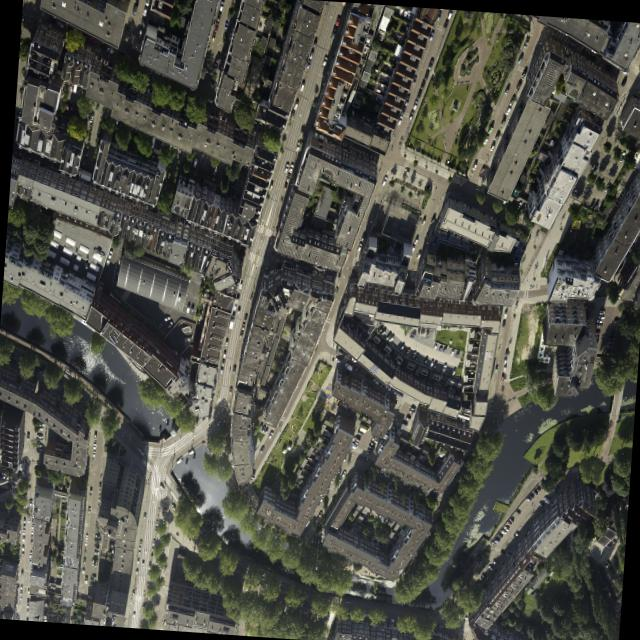small-vehicle: (76, 166, 91, 181), (245, 471, 255, 485), (104, 248, 112, 265), (358, 421, 368, 433), (130, 1, 138, 15), (227, 313, 234, 328), (617, 149, 625, 162), (507, 94, 515, 105), (514, 79, 521, 91), (426, 57, 433, 69), (149, 134, 155, 148), (343, 361, 352, 370), (626, 241, 633, 252), (588, 197, 595, 208), (619, 75, 626, 86), (481, 133, 488, 144), (399, 103, 406, 114), (418, 78, 425, 89), (581, 47, 589, 56), (541, 494, 549, 503), (403, 93, 409, 105), (330, 25, 336, 37), (249, 117, 258, 125), (349, 440, 357, 449), (282, 160, 288, 172), (71, 81, 77, 93), (80, 30, 88, 39), (46, 14, 54, 23), (603, 181, 610, 191), (486, 123, 493, 133), (408, 329, 415, 339), (591, 162, 597, 173), (191, 156, 197, 167), (294, 140, 300, 151), (287, 161, 293, 172), (396, 113, 402, 124), (380, 174, 386, 185), (411, 98, 417, 109), (422, 69, 428, 80), (435, 9, 441, 20), (415, 88, 421, 99), (211, 61, 217, 72), (321, 54, 327, 65), (212, 20, 218, 31), (88, 35, 96, 43), (106, 45, 113, 54), (568, 38, 575, 47), (402, 346, 409, 355), (622, 250, 628, 260), (617, 259, 623, 269), (590, 173, 596, 183), (493, 130, 499, 140), (504, 104, 510, 114), (503, 84, 509, 94), (520, 67, 526, 77), (516, 53, 522, 63), (593, 175, 599, 185), (407, 109, 413, 119), (429, 214, 435, 224), (427, 30, 433, 40), (442, 18, 448, 28), (211, 164, 217, 174), (175, 392, 181, 402), (215, 10, 221, 20), (79, 87, 85, 97), (530, 487, 537, 495), (605, 63, 612, 71), (588, 52, 595, 60), (416, 327, 424, 334), (409, 485, 416, 493), (205, 95, 212, 103), (65, 24, 72, 32), (98, 41, 105, 49), (334, 14, 339, 25), (214, 51, 219, 62), (14, 110, 19, 121), (592, 200, 598, 209), (570, 187, 576, 196), (471, 160, 477, 169), (515, 200, 521, 209), (488, 141, 494, 150), (499, 116, 505, 125), (456, 462, 462, 471), (440, 362, 446, 371), (298, 81, 304, 90), (137, 26, 142, 36), (308, 48, 313, 58), (292, 99, 297, 109), (207, 163, 212, 173), (218, 0, 223, 10), (210, 30, 215, 40), (141, 5, 146, 15), (68, 102, 73, 112), (64, 101, 69, 111), (88, 112, 93, 122), (499, 527, 506, 534), (492, 536, 499, 543), (621, 67, 628, 74), (371, 376, 378, 383), (364, 372, 371, 379), (352, 365, 359, 372), (336, 347, 343, 354), (349, 355, 356, 362), (351, 437, 358, 444), (116, 50, 123, 57), (56, 20, 63, 27), (613, 267, 619, 275), (483, 186, 489, 194), (379, 327, 385, 335), (384, 331, 390, 339), (387, 333, 393, 341), (412, 235, 418, 243), (353, 434, 359, 442), (166, 319, 172, 327), (519, 202, 524, 211), (346, 245, 351, 254), (501, 195, 506, 204), (415, 250, 420, 259), (409, 243, 414, 252), (356, 241, 361, 250), (139, 16, 144, 25), (311, 38, 316, 47), (305, 58, 310, 67), (233, 294, 238, 303), (184, 303, 189, 312), (267, 429, 272, 438), (225, 11, 230, 20), (450, 366, 455, 375), (285, 172, 290, 181), (67, 81, 72, 90), (537, 500, 543, 507), (458, 415, 464, 422), (384, 383, 390, 390), (382, 470, 388, 477), (396, 390, 402, 397), (371, 435, 377, 442), (334, 355, 340, 362), (356, 428, 362, 435), (162, 314, 169, 320), (35, 435, 42, 441), (35, 432, 42, 438), (487, 188, 492, 196), (479, 165, 484, 173), (410, 350, 415, 358), (452, 469, 457, 477), (377, 324, 382, 332), (413, 352, 418, 360), (431, 360, 436, 368), (420, 216, 425, 224), (398, 342, 403, 350), (411, 75, 416, 83), (468, 442, 473, 450), (360, 232, 365, 240), (340, 468, 345, 476), (267, 181, 272, 189), (170, 502, 175, 510), (229, 459, 234, 467), (258, 444, 263, 452), (260, 424, 265, 432), (257, 422, 262, 430), (223, 20, 227, 30), (133, 125, 137, 135), (158, 481, 163, 489), (113, 117, 118, 125), (242, 313, 247, 321), (491, 558, 497, 564), (480, 572, 486, 578), (502, 524, 508, 530), (496, 531, 502, 537), (513, 530, 519, 536), (514, 508, 520, 514), (525, 495, 531, 501), (527, 492, 533, 498), (390, 387, 396, 393), (424, 328, 428, 337), (390, 475, 396, 481), (374, 467, 380, 473), (409, 404, 415, 410), (408, 407, 414, 413), (369, 439, 375, 445), (367, 442, 373, 448), (7, 350, 13, 356), (9, 357, 15, 363), (607, 334, 614, 339), (597, 309, 604, 314), (597, 313, 604, 318), (487, 563, 492, 570), (454, 349, 459, 356), (506, 518, 511, 525), (422, 356, 427, 363), (428, 359, 433, 366), (437, 343, 442, 350), (432, 342, 437, 349), (462, 454, 467, 461), (318, 494, 323, 501), (325, 482, 330, 489), (341, 454, 346, 461), (337, 474, 342, 481), (215, 418, 220, 425), (503, 348, 507, 356), (502, 310, 506, 318), (240, 321, 244, 329), (237, 280, 241, 288), (189, 304, 193, 312), (238, 328, 242, 336), (188, 156, 192, 164), (117, 119, 121, 127), (27, 497, 31, 505), (231, 364, 235, 372), (25, 431, 29, 439), (84, 110, 88, 118), (595, 321, 601, 326), (606, 342, 612, 347), (612, 317, 618, 322), (596, 317, 602, 322), (593, 329, 599, 334), (591, 337, 597, 342), (551, 486, 556, 492), (554, 483, 559, 489), (479, 574, 484, 580), (512, 532, 517, 538), (364, 611, 370, 616), (357, 610, 363, 615), (378, 380, 383, 386), (441, 345, 446, 351), (405, 414, 410, 420), (403, 482, 408, 488), (368, 464, 373, 470), (419, 402, 425, 407), (401, 420, 406, 426), (373, 434, 379, 439), (328, 476, 333, 482), (181, 400, 186, 406), (179, 397, 184, 403), (535, 485, 540, 491), (90, 561, 96, 566), (93, 532, 99, 537), (20, 491, 26, 496), (37, 424, 43, 429), (499, 373, 503, 380), (502, 356, 506, 363), (449, 347, 453, 354), (314, 514, 318, 521), (317, 509, 321, 516), (334, 479, 338, 486), (315, 499, 319, 506), (223, 338, 227, 345), (232, 302, 236, 309), (221, 350, 225, 357), (220, 358, 224, 365), (156, 137, 160, 144), (92, 431, 96, 438), (499, 549, 504, 554), (508, 516, 513, 521), (388, 616, 393, 621), (417, 490, 422, 495), (366, 446, 371, 451), (365, 449, 370, 454), (605, 349, 610, 354), (93, 537, 98, 542), (94, 536, 99, 541), (97, 497, 102, 502), (93, 544, 98, 549), (90, 573, 95, 578), (86, 592, 91, 597), (607, 338, 613, 342), (592, 333, 598, 337), (493, 365, 497, 371), (37, 421, 43, 425), (283, 181, 286, 189), (263, 427, 267, 433), (154, 519, 158, 525), (83, 575, 86, 583), (18, 459, 22, 465), (35, 442, 41, 446), (502, 364, 505, 371), (501, 319, 504, 326), (91, 449, 94, 456), (147, 560, 150, 567), (236, 306, 239, 313), (228, 386, 231, 393), (151, 538, 154, 545), (138, 538, 141, 545), (86, 505, 89, 512), (83, 538, 86, 545), (82, 556, 85, 563), (28, 550, 31, 557), (92, 441, 95, 448), (30, 516, 33, 523), (21, 527, 24, 534), (219, 366, 222, 373), (609, 330, 614, 334), (443, 624, 448, 628), (437, 623, 442, 627), (346, 608, 351, 612), (381, 614, 386, 618), (91, 559, 96, 563), (93, 549, 98, 553), (89, 576, 94, 580), (89, 581, 93, 586), (144, 0, 148, 5), (146, 569, 149, 575), (140, 560, 143, 566), (81, 567, 84, 573), (149, 552, 152, 558), (150, 544, 153, 550), (155, 599, 158, 605), (153, 525, 156, 531), (142, 511, 145, 517), (84, 533, 87, 539), (134, 568, 137, 574), (97, 481, 100, 487), (28, 556, 31, 562), (30, 522, 33, 528), (21, 535, 24, 541), (20, 544, 23, 550), (135, 558, 138, 563), (137, 548, 140, 553), (137, 544, 140, 549), (131, 589, 134, 594), (131, 611, 134, 616), (88, 487, 91, 492), (25, 602, 28, 607), (26, 587, 29, 592), (26, 516, 29, 521), (22, 517, 25, 522), (29, 538, 32, 543), (20, 550, 23, 555), (26, 597, 28, 603), (24, 464, 26, 470), (20, 569, 22, 574), (19, 593, 21, 598), (19, 589, 21, 594), (30, 533, 32, 538), (22, 522, 24, 527), (102, 617, 104, 622), (30, 528, 32, 533), (25, 607, 27, 611), (19, 584, 21, 588)
